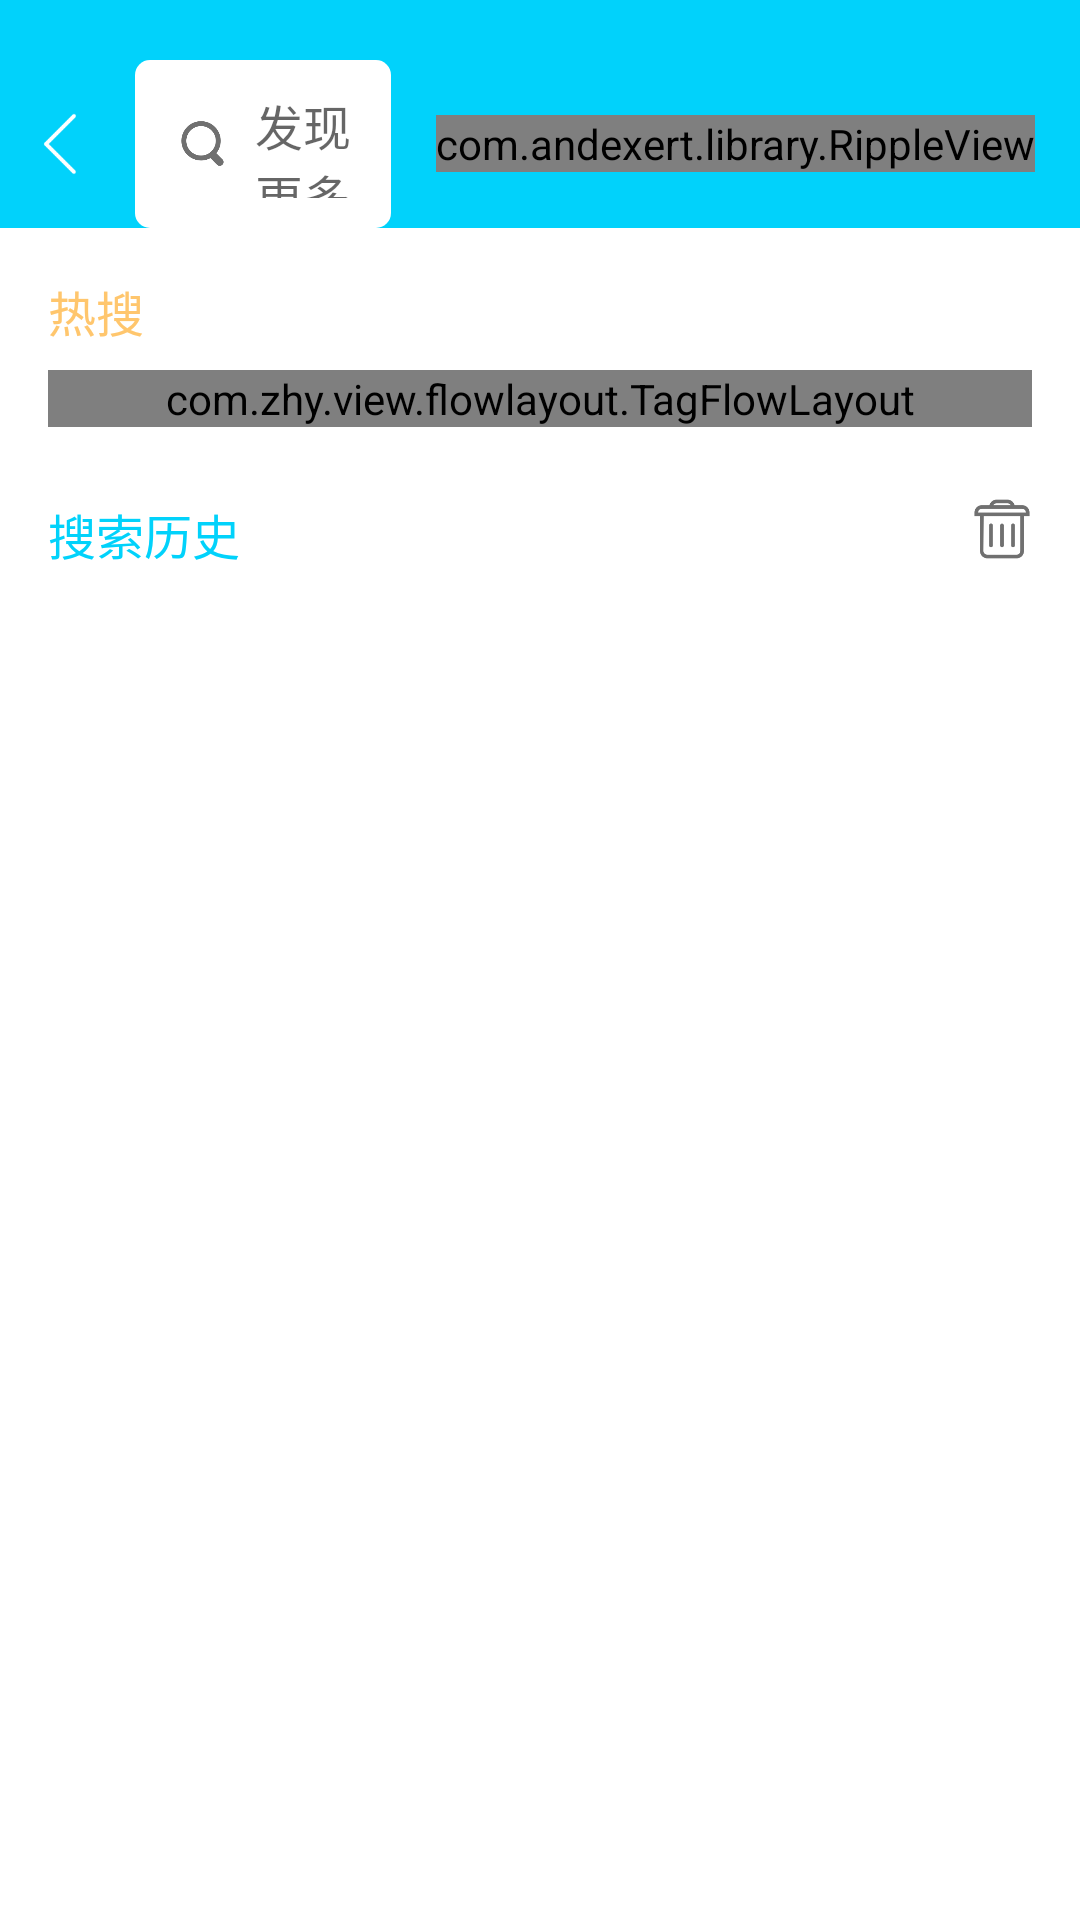

Where to tap for icons on this 1080px×1920px app screen, as [x,y]:
back: [60,144]
search: [202,143]
search clear all: [1002,529]
